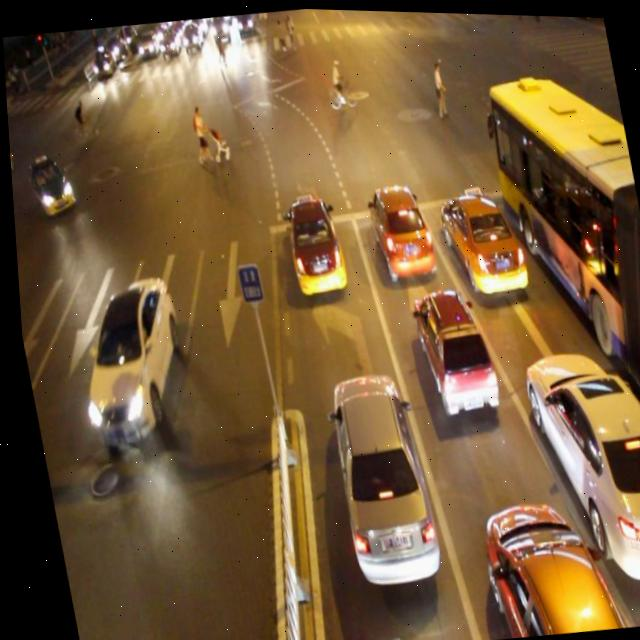car: (510, 331, 640, 592), (314, 361, 438, 586), (64, 272, 191, 453), (468, 484, 616, 639), (403, 278, 496, 416), (430, 178, 527, 295), (362, 171, 435, 280), (276, 185, 347, 296), (22, 150, 75, 216)
van: (479, 63, 640, 444)
